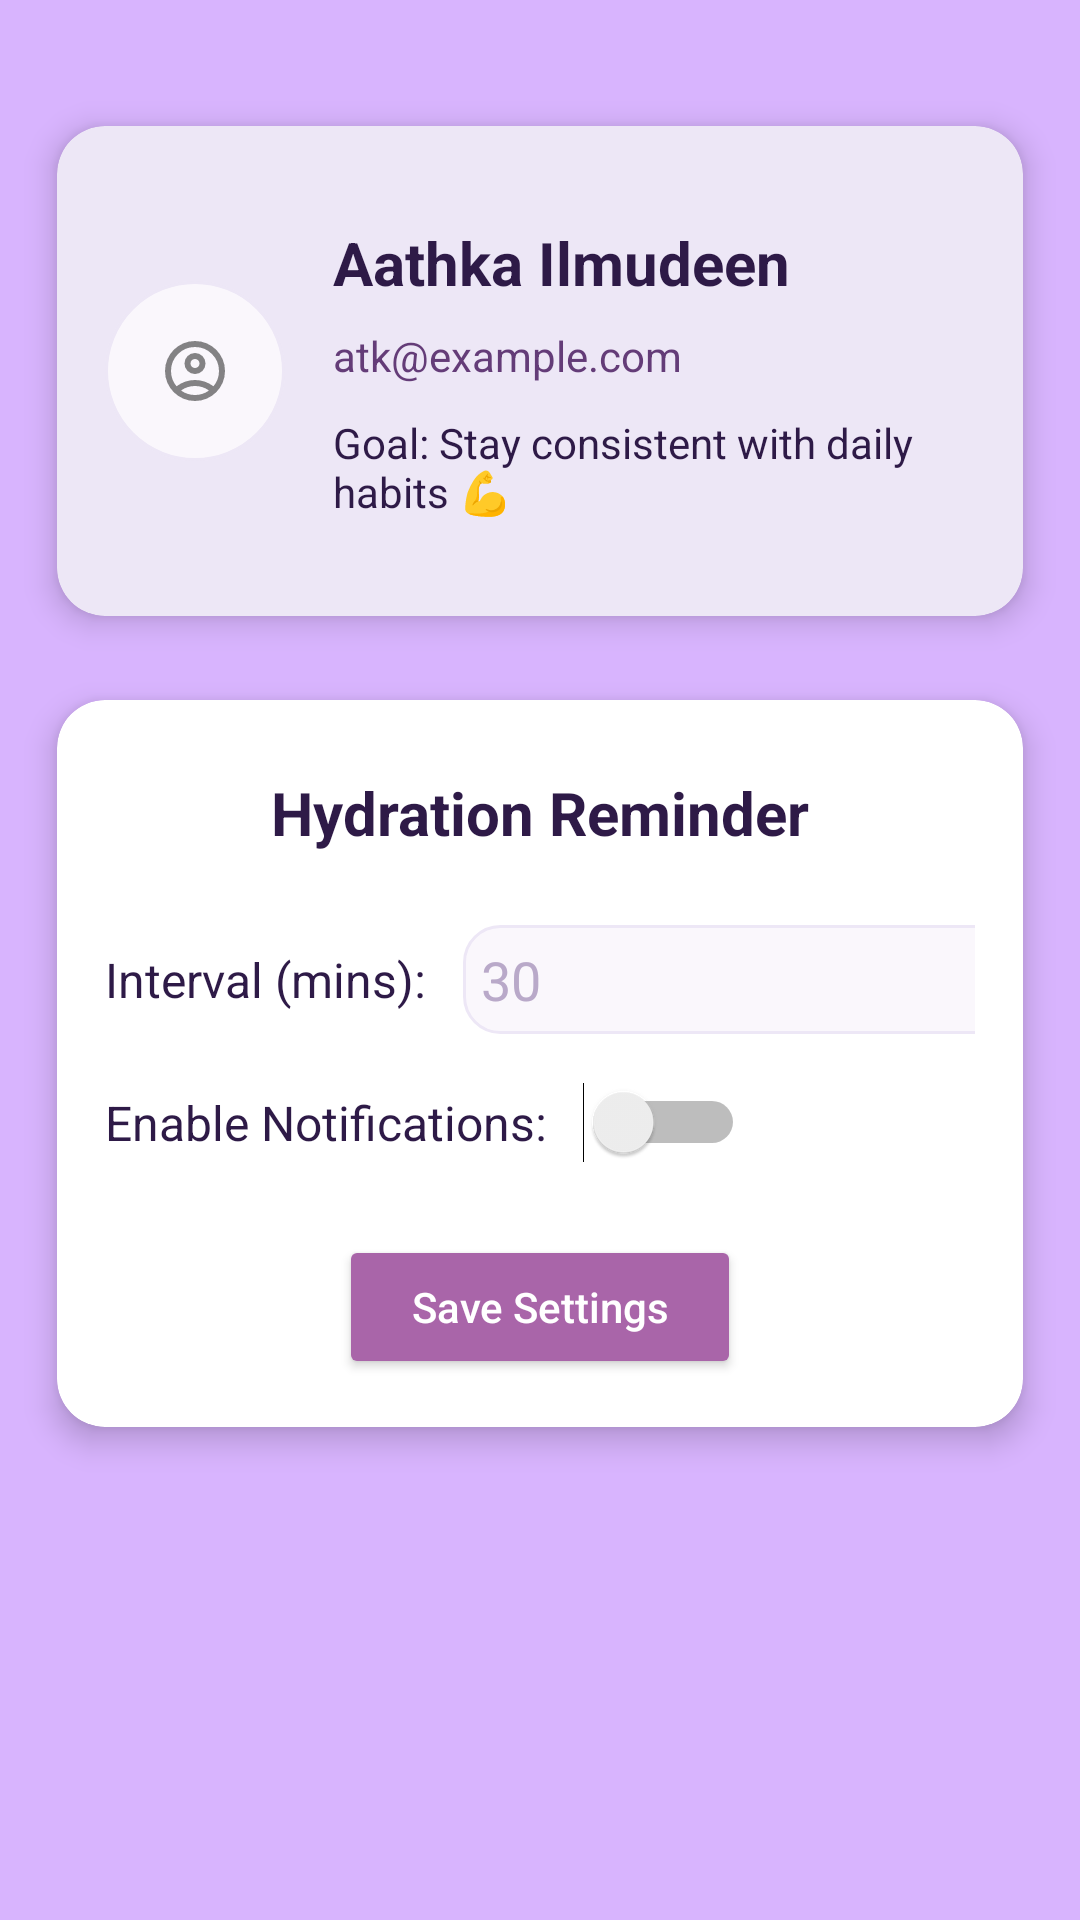

Named icons in this screenshot (1080*1920) and their centers, (x,y):
Profile Image: (195,371)
